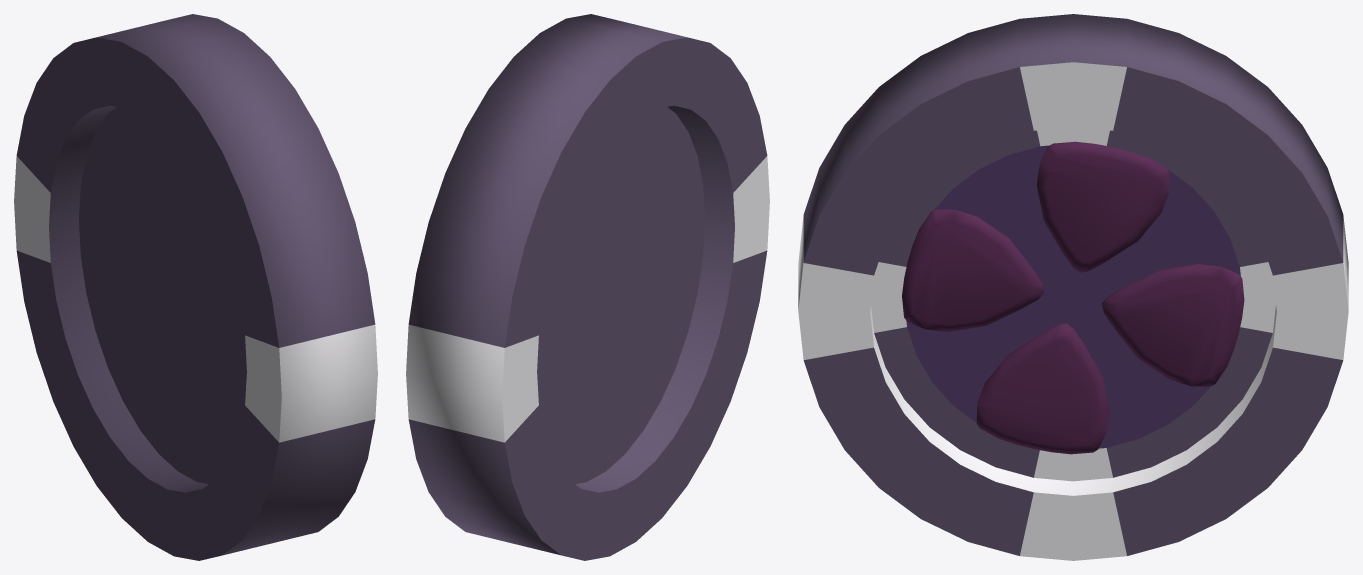
File: moneta.fbx
3 views of the same model, side by side, from view 1: azimuth 30°, elevation 25°; view 2: azimuth 150°, elevation 25°; view 3: azimuth 270°, elevation 25° (orthographic). The views are drawn at different scales.
Parts seen in each view (by area): view 1: Окружность; view 2: Окружность; view 3: Окружность, Плоскость.001, Плоскость.
Boxes of the visible parts, bbox=[...] form: Окружность: bbox=[14, 14, 377, 560]; Окружность: bbox=[406, 14, 769, 560]; Окружность: bbox=[798, 14, 1348, 560]; Плоскость.001: bbox=[902, 209, 1244, 386]; Плоскость: bbox=[976, 141, 1169, 454].
Bounding box in the file's own units: 41.45 × 200 × 200.
